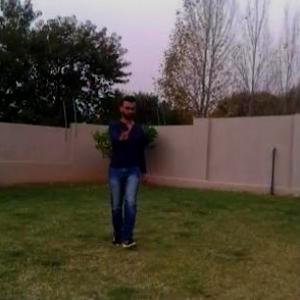takeoff-hand: (110, 121, 136, 147)
